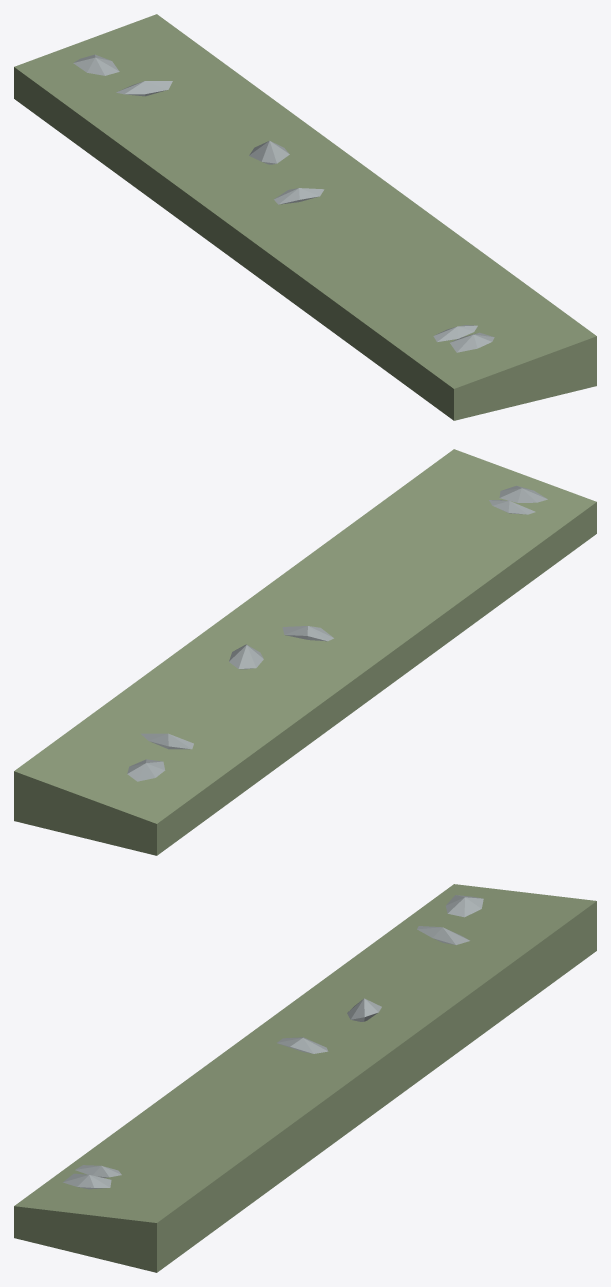
Rendered from river_bank_grass.glb.
3 views of the same model, one above another, from view 1: azimuth 30°, elevation 25°; view 2: azimuth 150°, elevation 25°; view 3: azimuth 330°, elevation 25° (orthographic).
Visible parts, largest first — view 1: river_bank_grass; view 2: river_bank_grass; view 3: river_bank_grass.
Boxes of the visible parts, box(x1,y1,x2,y2) form: river_bank_grass: box(14, 14, 596, 420); river_bank_grass: box(14, 449, 596, 855); river_bank_grass: box(14, 884, 596, 1272).
Bounding box in the file's own units: 1.5 × 0.6454 × 8.
